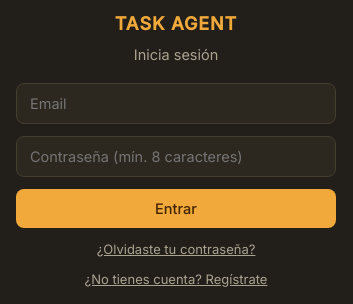
LoginForm - modo recuperar contraseña › no pide contraseña en el modo de reset
The width and height of the screenshot is (353, 304).
Click the button "¿Olvidaste tu contraseña?": (176, 248) top-left (16, 240), bottom-right (336, 258)
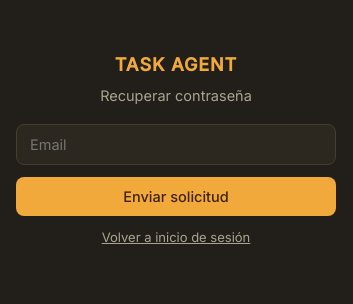
Now the text "Recuperar contraseña" is shown, box top-left (100, 87), bottom-right (252, 104)
